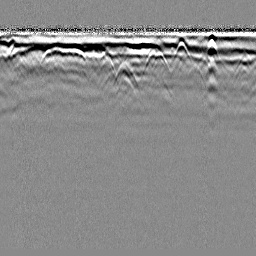cavity: (113, 60, 139, 87)
